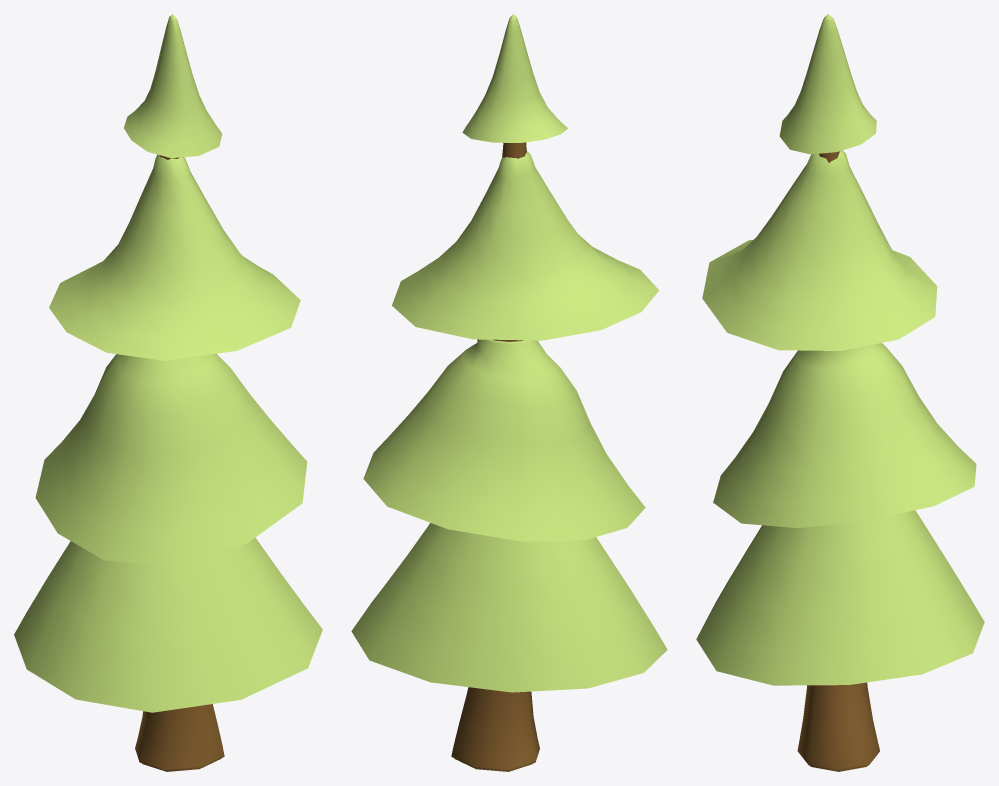
File: tree_pine_round.fbx
The picture shows the model from 3 angles, left to right: view 1: azimuth 30°, elevation 25°; view 2: azimuth 150°, elevation 25°; view 3: azimuth 270°, elevation 25°; orthographic projection.
Visible parts, largest first — view 1: tree_pine_round; view 2: tree_pine_round; view 3: tree_pine_round.
Part boxes in pixels (x1,y1,x2,y2): tree_pine_round: (14,14,322,771); tree_pine_round: (351,14,667,771); tree_pine_round: (696,14,984,771).
Size of the model in its own units: 166 by 437 by 155.
